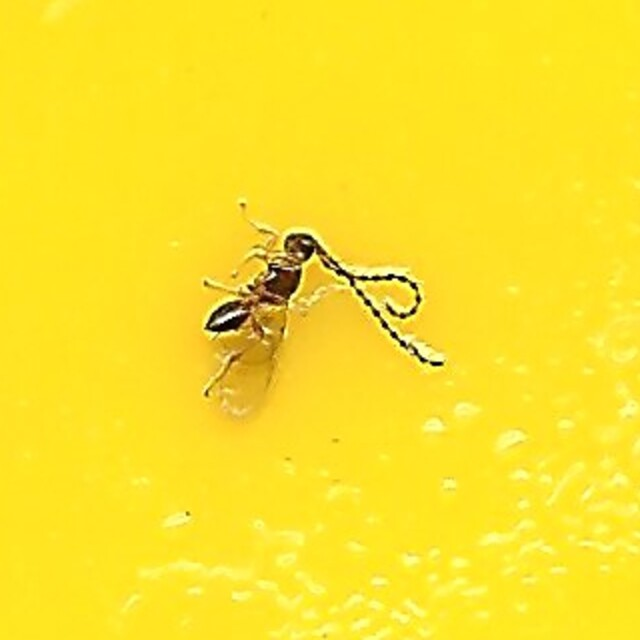Hymenoptera: (200, 214, 440, 426)
